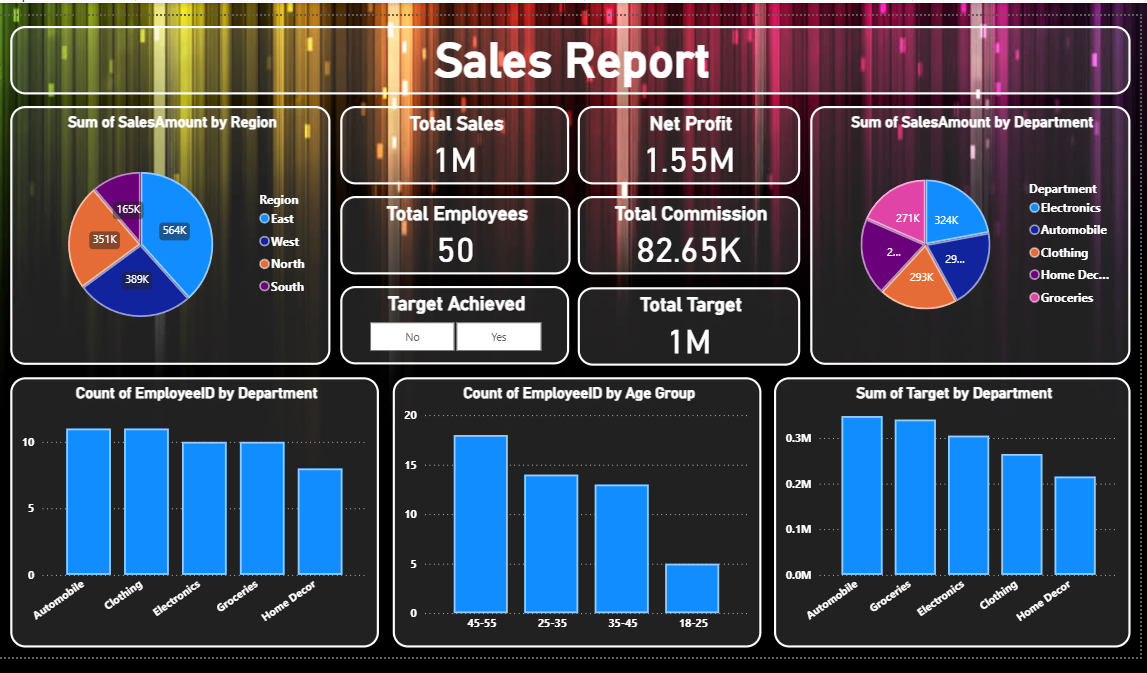

The dashboard page shown, as its layout file describes it:
{"tool":"powerbi","page":{"name":"Page 1","canvas":[1280,720],"ordinal":0},"visuals":[{"type":"columnChart","fields":{"Category":["sales_data.Department"],"Y":["CountNonNull(sales_data.EmployeeID)"]},"box":[12.6,405.3,413.7,302.9],"z":0},{"type":"pieChart","fields":{"Category":["sales_data.Region"],"Y":["Sum(sales_data.SalesAmount)"]},"box":[12.6,101,359,290.3],"z":1000},{"type":"columnChart","fields":{"Category":["sales_data.Department"],"Y":["Sum(sales_data.Target)"]},"box":[869.4,405.3,399.6,302.9],"z":2000},{"type":"columnChart","fields":{"Category":["sales_data.Age Group"],"Y":["CountNonNull(sales_data.EmployeeID)"]},"box":[441.7,405.3,413.7,302.9],"z":3000},{"type":"pieChart","fields":{"Category":["sales_data.Department"],"Y":["Sum(sales_data.SalesAmount)"]},"box":[910.1,101,359,290.3],"z":4000},{"type":"textbox","title":"Sales Report","box":[12.6,11.2,1256.4,77.1],"z":5000},{"type":"card","title":"Total Employees","fields":{"Values":["CountNonNull(sales_data.EmployeeID)"]},"box":[382.8,201.9,258,88.3],"z":6000},{"type":"card","title":"Total Sales","fields":{"Values":["Sum(sales_data.SalesAmount)"]},"box":[382.8,101,256.6,88.3],"z":7000},{"type":"slicer","title":"Target Achieved","fields":{"Values":["sales_data.TargetAchieved"]},"box":[382.8,302.9,256.6,88.3],"z":8000},{"type":"card","title":"Net Profit","fields":{"Values":["Sum(sales_data.TotalEarnings)"]},"box":[649.3,101,249.6,88.3],"z":9000},{"type":"card","title":"Total Commission","fields":{"Values":["Sum(sales_data.Total Commission)"]},"box":[649.3,201.9,249.6,88.3],"z":10000},{"type":"card","title":"Total Target","fields":{"Values":["Sum(sales_data.Target)"]},"box":[649.3,304.3,249.6,88.3],"z":11000}]}

Visuals, with their boxes in screenshot pixels (x1, y1, x2, y2):
columnChart - sales_data.Department x CountNonNull(sales_data.EmployeeID): bbox=(11, 373, 377, 641)
pieChart - sales_data.Region x Sum(sales_data.SalesAmount): bbox=(11, 104, 328, 361)
columnChart - sales_data.Department x Sum(sales_data.Target): bbox=(768, 373, 1121, 641)
columnChart - sales_data.Age Group x CountNonNull(sales_data.EmployeeID): bbox=(390, 373, 756, 641)
pieChart - sales_data.Department x Sum(sales_data.SalesAmount): bbox=(804, 104, 1122, 361)
"Sales Report" textbox: bbox=(11, 25, 1121, 93)
"Total Employees" card: bbox=(338, 193, 566, 271)
"Total Sales" card: bbox=(338, 104, 565, 182)
"Target Achieved" slicer: bbox=(338, 283, 565, 361)
"Net Profit" card: bbox=(574, 104, 794, 182)
"Total Commission" card: bbox=(574, 193, 794, 271)
"Total Target" card: bbox=(574, 284, 794, 362)
